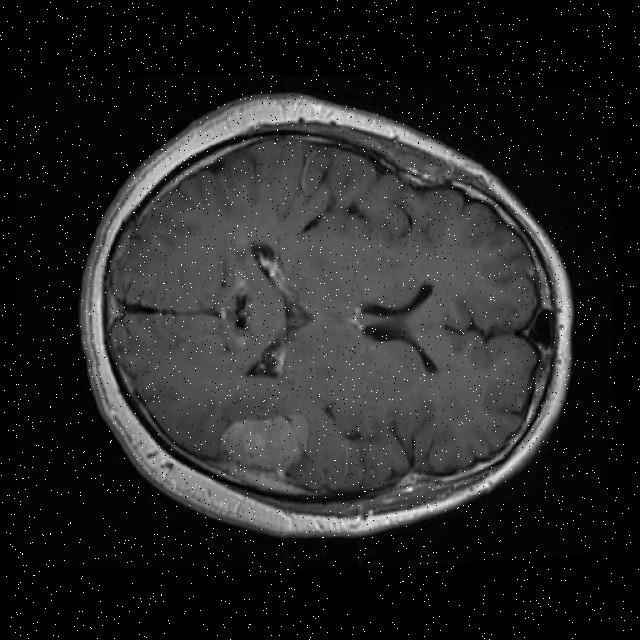Meningioma: (215, 416, 310, 493)
